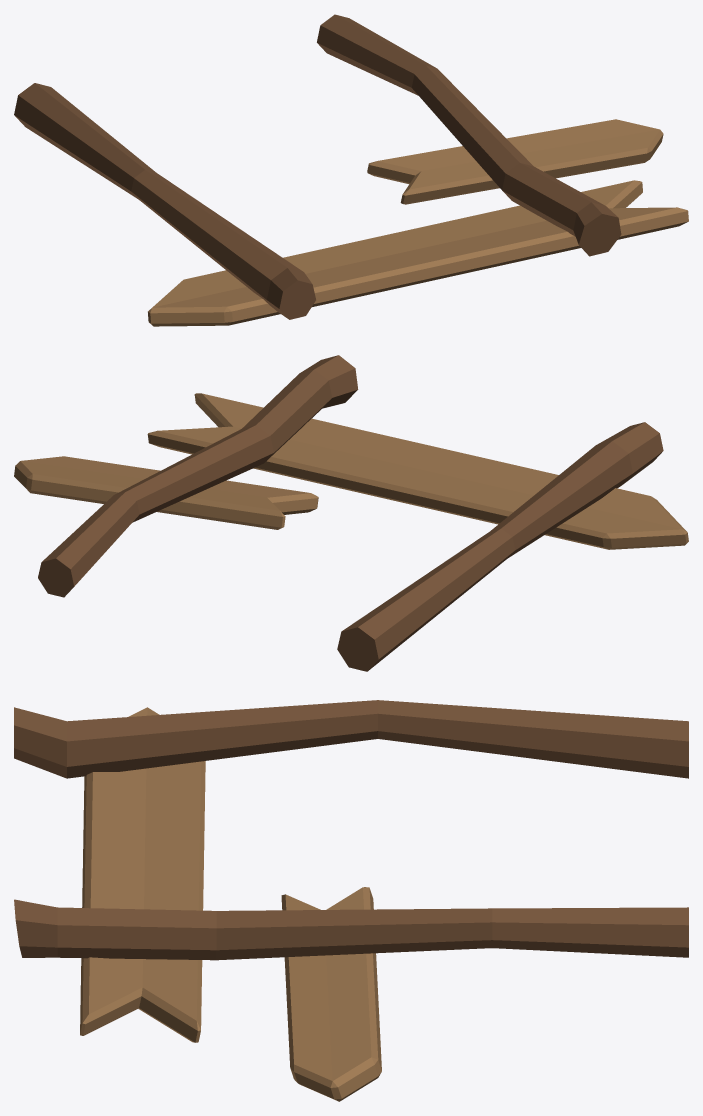
Rendered from Panel_18.fbx.
3 renders of one model, top to bottom at view 1: azimuth 30°, elevation 25°; view 2: azimuth 150°, elevation 25°; view 3: azimuth 270°, elevation 25°, orthographic. The views are drawn at different scales.
Visible parts, largest first — view 1: Poteau 2*2 fleches LOW Petit.001; view 2: Poteau 2*2 fleches LOW Petit.001; view 3: Poteau 2*2 fleches LOW Petit.001.
Boxes of the visible parts, left/top/right/bottom form: Poteau 2*2 fleches LOW Petit.001: left=14, top=14, right=688, bottom=326; Poteau 2*2 fleches LOW Petit.001: left=14, top=355, right=688, bottom=671; Poteau 2*2 fleches LOW Petit.001: left=14, top=700, right=688, bottom=1101.
Size of the model in its own units: 98.95 by 13.55 by 79.74.
